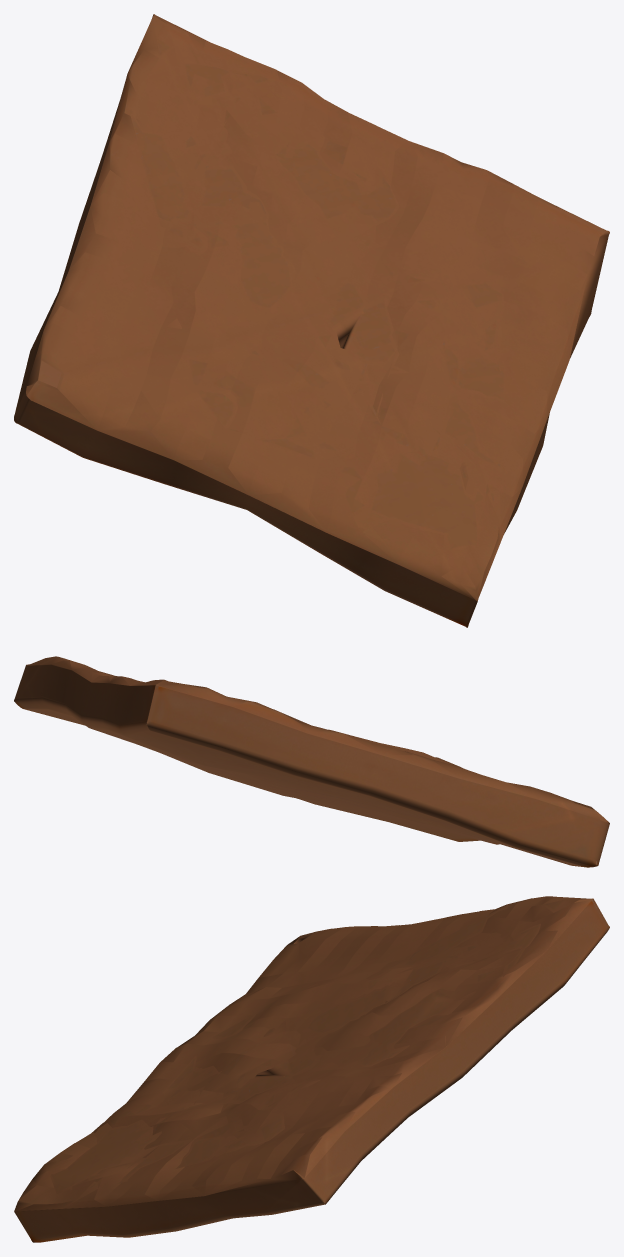
Rendered from stone+slab+3d+model.fbx.
3 renders of one model, top to bottom at view 1: azimuth 30°, elevation 25°; view 2: azimuth 150°, elevation 25°; view 3: azimuth 270°, elevation 25°, orthographic. The views are drawn at different scales.
Visible parts, largest first — view 1: tripo_068ba5d2_a2bf_440b_a6c5_3ecd73ba7bae; view 2: tripo_068ba5d2_a2bf_440b_a6c5_3ecd73ba7bae; view 3: tripo_068ba5d2_a2bf_440b_a6c5_3ecd73ba7bae.
Boxes of the visible parts, x1,y1,x2,y2 form: tripo_068ba5d2_a2bf_440b_a6c5_3ecd73ba7bae: (14,14,609,627); tripo_068ba5d2_a2bf_440b_a6c5_3ecd73ba7bae: (14,656,609,867); tripo_068ba5d2_a2bf_440b_a6c5_3ecd73ba7bae: (14,896,609,1242).
Size of the model in its own units: 0.9995 by 0.6265 by 0.9839.
1 material, 1 textured.
